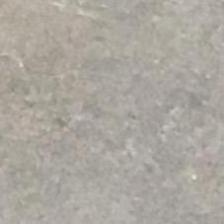Non_Crack: (8, 48, 224, 194)
